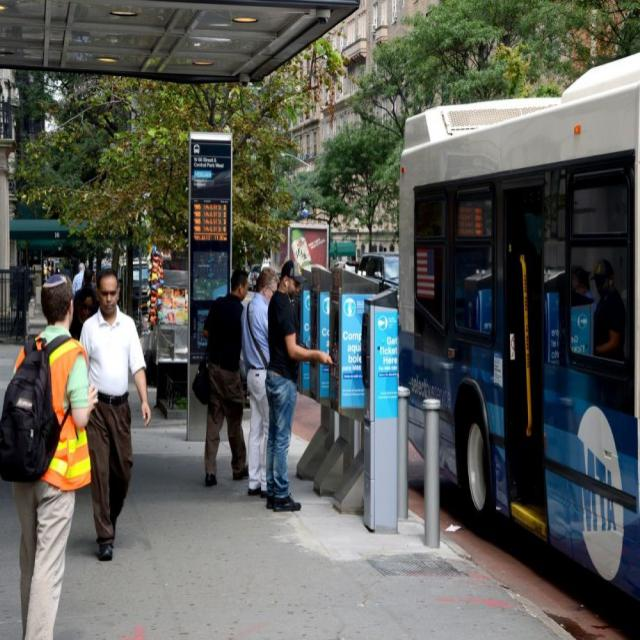body: (414, 188, 634, 356), (0, 269, 99, 638), (76, 265, 152, 563), (264, 258, 334, 514), (190, 267, 250, 488), (239, 266, 278, 499), (68, 286, 100, 342), (71, 262, 86, 298), (42, 258, 65, 278), (80, 268, 94, 292)
